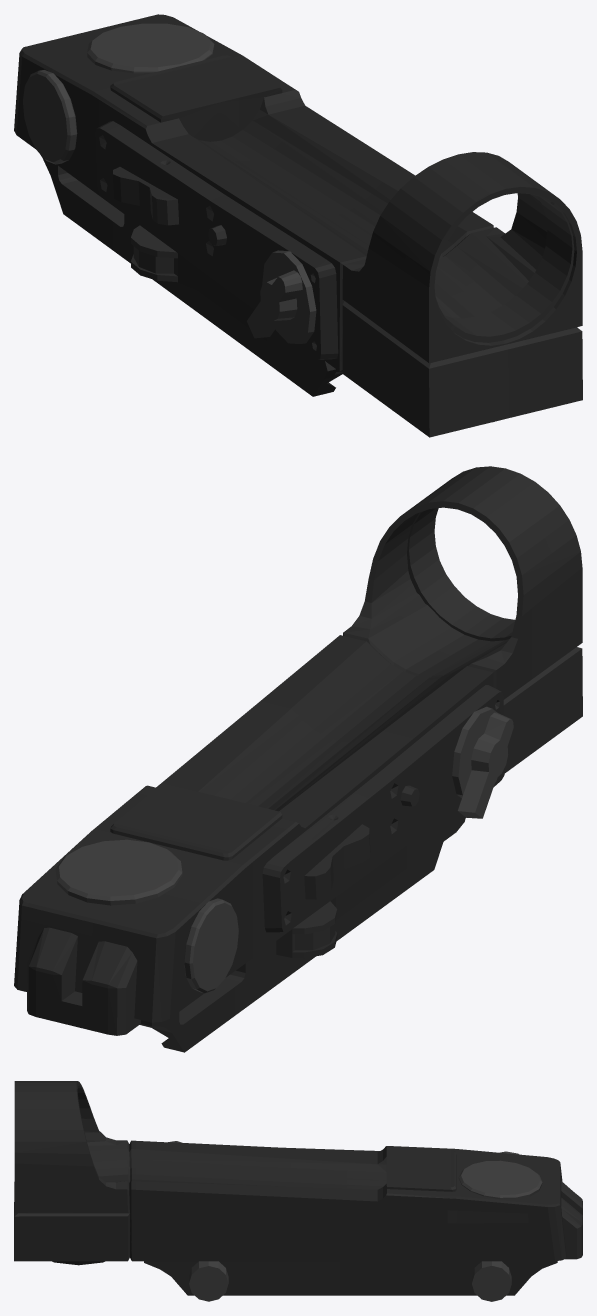
File: Red Dot 1.fbx
3 renders of one model, top to bottom at view 1: azimuth 30°, elevation 25°; view 2: azimuth 150°, elevation 25°; view 3: azimuth 270°, elevation 25°, orthographic. The views are drawn at different scales.
Parts seen in each view (by area): view 1: Red Dot; view 2: Red Dot; view 3: Red Dot.
Boxes of the visible parts, box(x1,y1,x2,y2) form: Red Dot: box(14, 14, 582, 437); Red Dot: box(14, 466, 582, 1052); Red Dot: box(14, 1081, 582, 1301).
Size of the model in its own units: 4.52 by 6.26 by 16.99.
